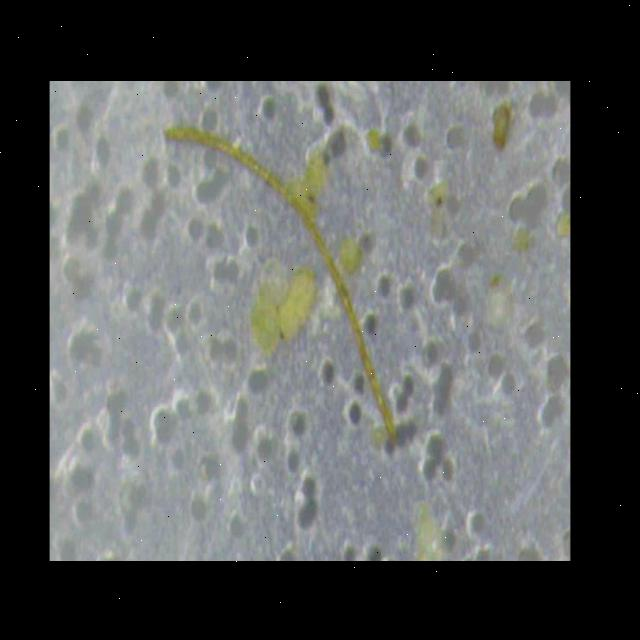Fibre: (163, 117, 399, 446)
